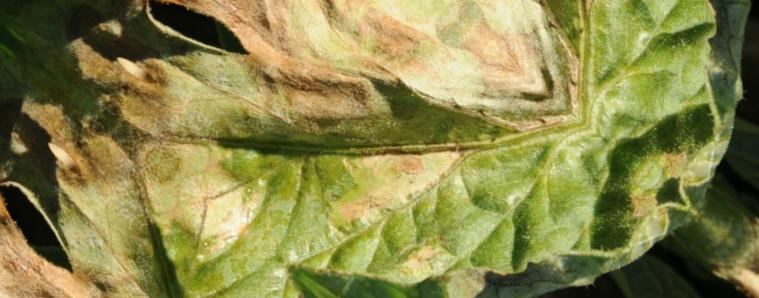Tomato leaf late blight: (0, 0, 673, 298)
